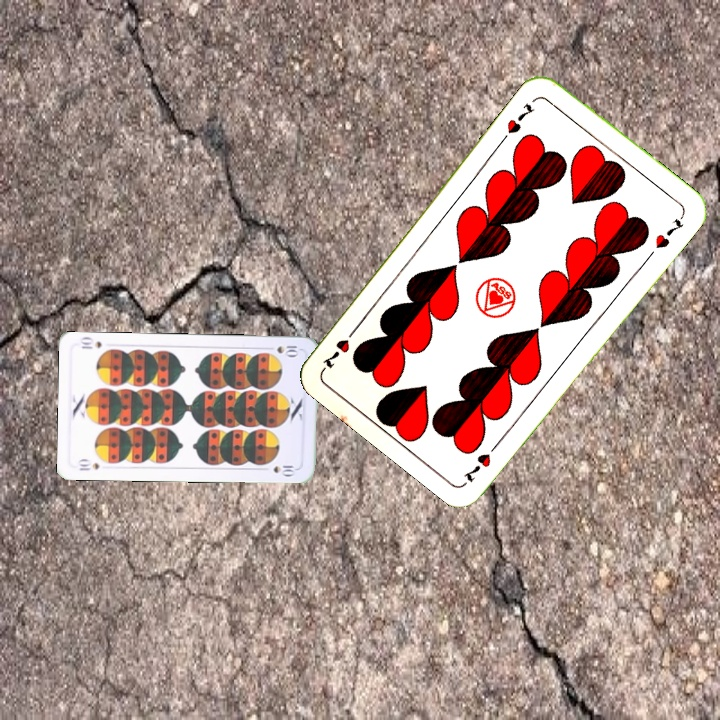H7: (459, 436, 503, 485), (502, 99, 537, 137)
S10: (262, 342, 301, 358), (74, 456, 102, 473)
